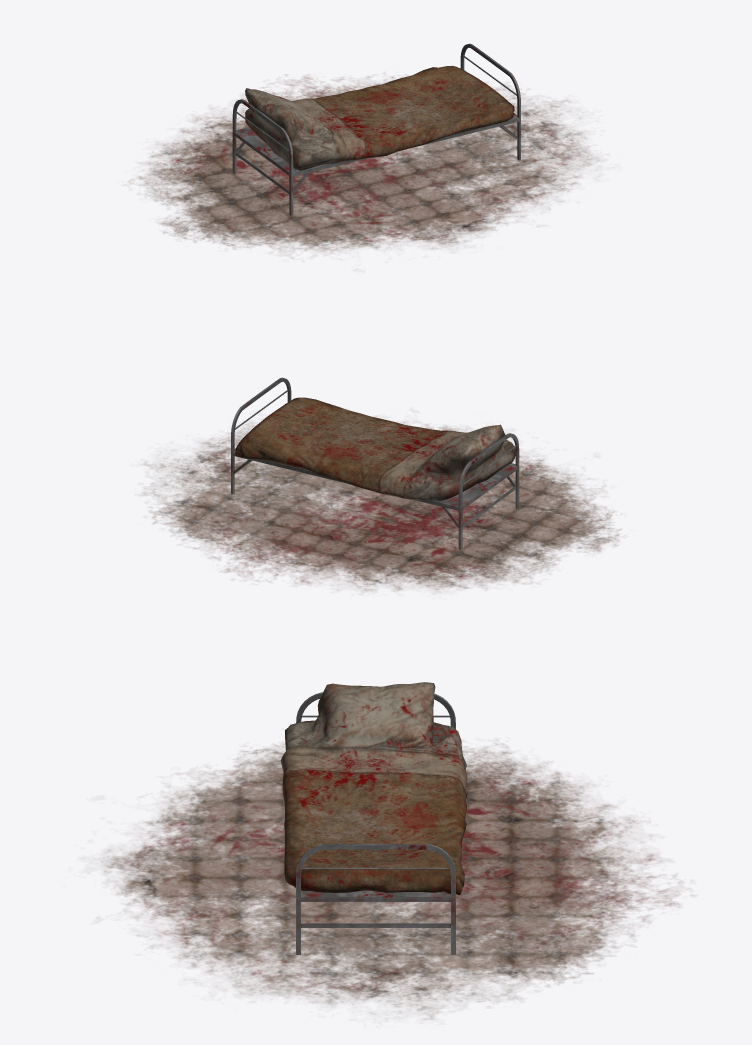
The picture shows the model from 3 angles, top to bottom: view 1: azimuth 30°, elevation 25°; view 2: azimuth 150°, elevation 25°; view 3: azimuth 270°, elevation 25°; orthographic projection. The views are drawn at different scales.
Parts seen in each view (by area): view 1: Floor, Bed_low, Frame_low; view 2: Floor, Bed_low, Frame_low; view 3: Floor, Bed_low, Frame_low.
Part boxes in pixels (box(x1,y1,x2,y2)): Floor: box(125, 73, 599, 258); Bed_low: box(245, 65, 514, 170); Frame_low: box(232, 43, 520, 215); Floor: box(141, 416, 625, 592); Bed_low: box(235, 397, 515, 500); Frame_low: box(231, 377, 519, 549); Floor: box(85, 740, 681, 1019); Bed_low: box(280, 682, 467, 894); Frame_low: box(296, 692, 455, 954).
Bounding box in the file's own units: 4.44 × 0.8401 × 4.44.
Materials: 2 (2 with a texture image).
